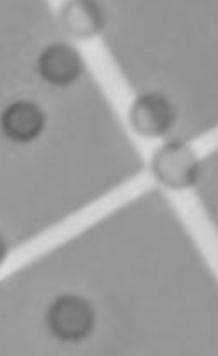cell: (146, 134, 205, 192), (122, 83, 179, 142), (40, 289, 99, 345), (1, 89, 54, 146), (33, 36, 84, 88), (55, 1, 108, 46)
